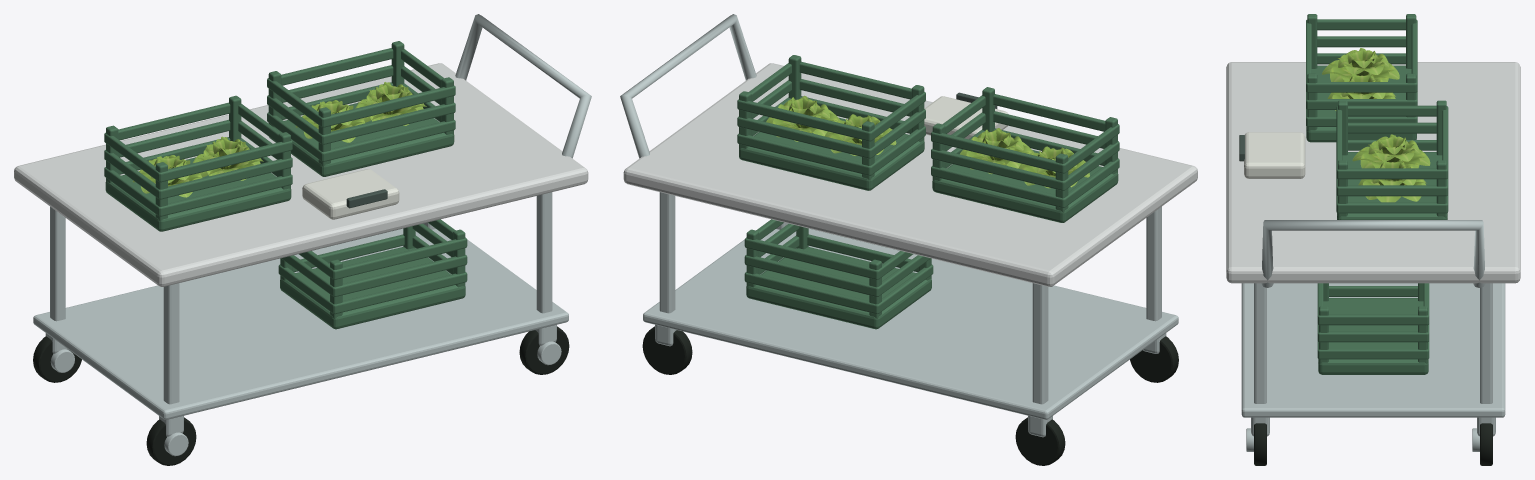
The model's file is harvest-cart.glb.
3 renders of one model, left to right at view 1: azimuth 30°, elevation 25°; view 2: azimuth 150°, elevation 25°; view 3: azimuth 270°, elevation 25°, orthographic.
Parts seen in each view (by area): view 1: Lower cart shelf, Packing worktop, Harvest crate bottom.002, Harvest crate bottom, Harvest crate bottom.001, Packing scale, Cart push handle, Cart tubular leg.002, Cart tubular leg, Cart tubular leg.001, Crate slotted end.002, Crate slotted end.008 (+29 smaller); view 2: Lower cart shelf, Packing worktop, Harvest crate bottom.002, Harvest crate bottom, Harvest crate bottom.001, Cart push handle, Cart tubular leg.003, Cart tubular leg.001, Cart tubular leg, Castor tyre.001, Castor tyre.003, Crate slotted end.009 (+29 smaller); view 3: Packing worktop, Lower cart shelf, Harvest crate bottom.002, Cart push handle, Packing scale, Harvest crate bottom.001, Lettuce_0042.001, Lettuce_0042, Harvest crate bottom, Cart tubular leg.002, Cart tubular leg.003, Crate slotted side.017 (+29 smaller).
Part boxes in pixels (bbox=[...]): Lower cart shelf: bbox=[33, 228, 568, 419]; Packing worktop: bbox=[14, 63, 588, 286]; Harvest crate bottom.002: bbox=[280, 247, 465, 329]; Harvest crate bottom: bbox=[105, 157, 291, 231]; Harvest crate bottom.001: bbox=[269, 103, 454, 176]; Packing scale: bbox=[302, 169, 399, 219]; Cart push handle: bbox=[455, 14, 591, 158]; Cart tubular leg.002: bbox=[536, 192, 552, 313]; Cart tubular leg: bbox=[163, 283, 179, 404]; Cart tubular leg.001: bbox=[50, 206, 65, 321]; Crate slotted end.002: bbox=[159, 158, 292, 199]; Crate slotted end.008: bbox=[322, 103, 455, 144]; Lower cart shelf: bbox=[643, 228, 1178, 419]; Packing worktop: bbox=[623, 63, 1197, 286]; Harvest crate bottom.002: bbox=[746, 247, 931, 329]; Harvest crate bottom: bbox=[932, 150, 1118, 222]; Harvest crate bottom.001: bbox=[739, 117, 924, 190]; Cart push handle: bbox=[620, 14, 756, 158]; Cart tubular leg.003: bbox=[659, 192, 675, 313]; Cart tubular leg.001: bbox=[1032, 283, 1048, 404]; Cart tubular leg: bbox=[1146, 206, 1161, 321]; Castor tyre.001: bbox=[1015, 417, 1065, 465]; Castor tyre.003: bbox=[642, 326, 692, 374]; Crate slotted end.009: bbox=[737, 117, 870, 158]; Packing worktop: bbox=[1226, 62, 1520, 283]; Lower cart shelf: bbox=[1241, 283, 1505, 417]; Harvest crate bottom.002: bbox=[1318, 298, 1428, 374]; Cart push handle: bbox=[1261, 220, 1485, 287]; Packing scale: bbox=[1244, 132, 1305, 178]; Harvest crate bottom.001: bbox=[1337, 152, 1447, 219]; Lettuce_0042.001: bbox=[1352, 134, 1430, 168]; Lettuce_0042: bbox=[1322, 48, 1399, 81]; Harvest crate bottom: bbox=[1306, 65, 1416, 142]; Cart tubular leg.002: bbox=[1254, 283, 1266, 403]; Cart tubular leg.003: bbox=[1480, 283, 1492, 403]; Crate slotted side.017: bbox=[1318, 314, 1428, 325].
Bounding box in the file's own units: 2.2 × 1.29 × 1.25.
